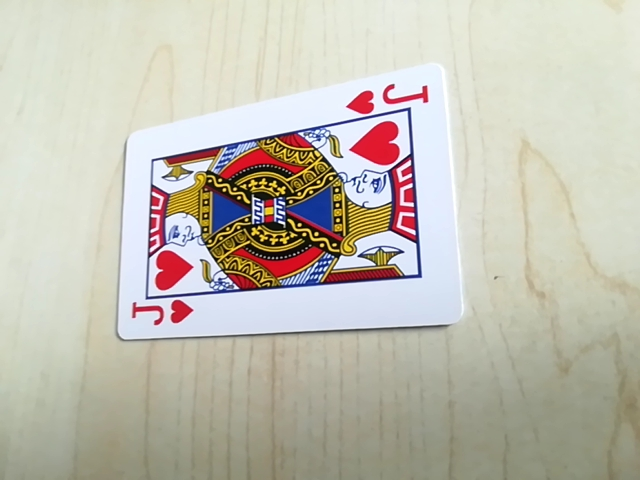hx j: (344, 79, 431, 119), (124, 293, 198, 334)
